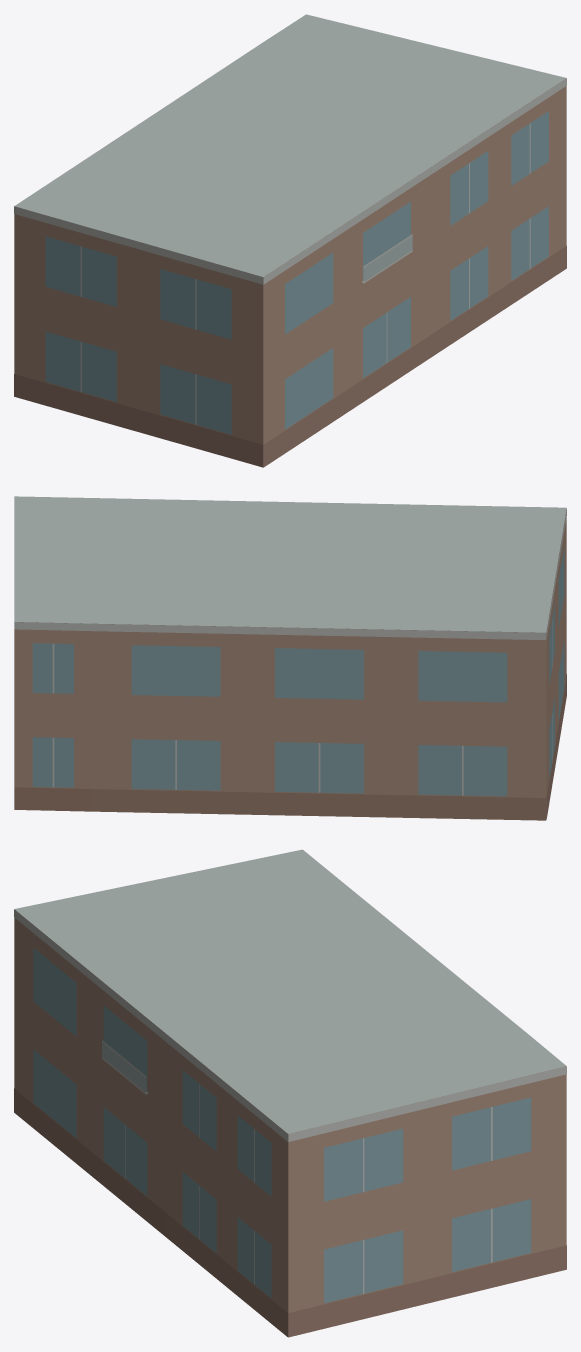
Rendered from survey-upis-32809477.glb.
3 views of the same model, one above another, from view 1: azimuth 30°, elevation 25°; view 2: azimuth 150°, elevation 25°; view 3: azimuth 270°, elevation 25° (orthographic). The views are drawn at different scales.
Visible parts, largest first — view 1: survey-upis-32809477.tmp; view 2: survey-upis-32809477.tmp; view 3: survey-upis-32809477.tmp.
Boxes of the visible parts, box(x1,y1,x2,y2) form: survey-upis-32809477.tmp: box(14, 14, 566, 467); survey-upis-32809477.tmp: box(14, 496, 566, 820); survey-upis-32809477.tmp: box(14, 849, 566, 1337).
Bounding box in the file's own units: 18.31 × 6.1 × 15.03.
